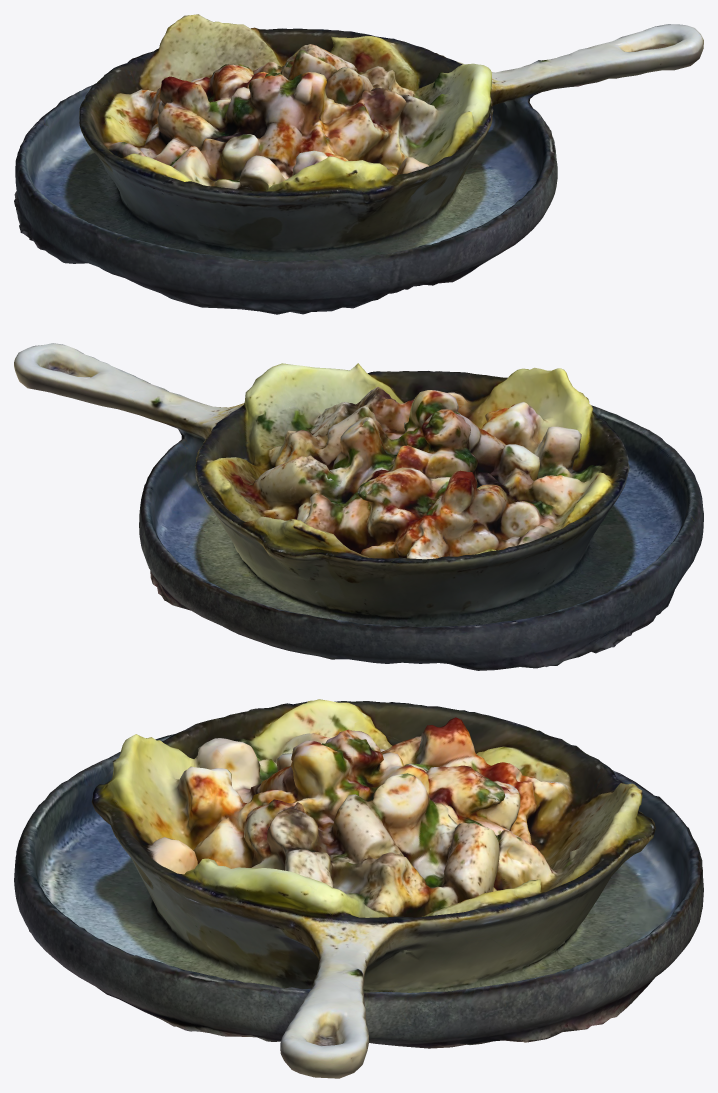
The model's file is poulpe-a-la-galicienne.glb.
3 views of the same model, one above another, from view 1: azimuth 30°, elevation 25°; view 2: azimuth 150°, elevation 25°; view 3: azimuth 270°, elevation 25° (orthographic). The views are drawn at different scales.
Visible parts, largest first — view 1: /ObjectCapture/Geometry/Mesh; view 2: /ObjectCapture/Geometry/Mesh; view 3: /ObjectCapture/Geometry/Mesh.
Boxes of the visible parts, x1,y1,x2,y2 form: /ObjectCapture/Geometry/Mesh: [14, 14, 703, 314]; /ObjectCapture/Geometry/Mesh: [14, 343, 703, 670]; /ObjectCapture/Geometry/Mesh: [14, 699, 703, 1078].
Size of the model in its own units: 0.2783 by 0.0616 by 0.2063.
Materials: 1 (1 with a texture image).
